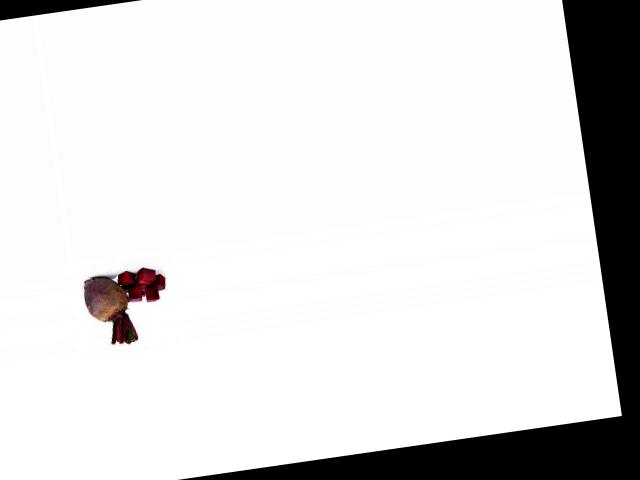beet: (82, 272, 139, 348)
